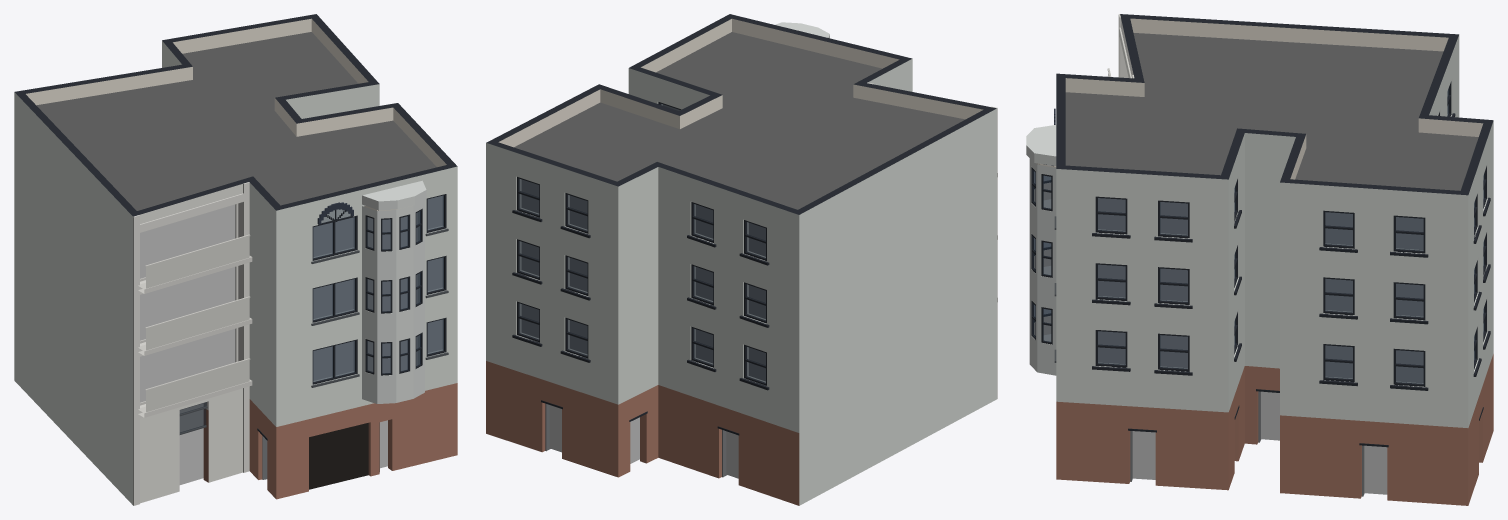
Rendered from exterior.glb.
3 views of the same model, side by side, from view 1: azimuth 30°, elevation 25°; view 2: azimuth 150°, elevation 25°; view 3: azimuth 270°, elevation 25° (orthographic). The views are drawn at different scales.
Visible parts, largest first — view 1: shell, roof, shadow-proxy, storefront, bay-windows, glazing, relief-1, bay-glazing, frames, trim, arch-heads-3; view 2: shell, roof, shadow-proxy, glazing, frames, trim, storefront; view 3: shell, roof, shadow-proxy, glazing, frames, bay-windows, trim, bay-glazing, storefront.
Part boxes in pixels (x1=…): shell: x1=14, y1=14, x2=457, y2=504; roof: x1=36, y1=32, x2=436, y2=210; shadow-proxy: x1=140, y1=196, x2=442, y2=484; storefront: x1=138, y1=203, x2=379, y2=489; bay-windows: x1=362, y1=180, x2=426, y2=403; glazing: x1=179, y1=195, x2=443, y2=432; relief-1: x1=133, y1=182, x2=249, y2=505; bay-glazing: x1=365, y1=208, x2=422, y2=375; frames: x1=312, y1=194, x2=446, y2=384; trim: x1=311, y1=228, x2=448, y2=387; arch-heads-3: x1=317, y1=202, x2=353, y2=225; shell: x1=486, y1=14, x2=996, y2=505; roof: x1=514, y1=32, x2=965, y2=209; shadow-proxy: x1=522, y1=104, x2=765, y2=478; glazing: x1=519, y1=104, x2=765, y2=382; frames: x1=517, y1=102, x2=766, y2=385; trim: x1=512, y1=210, x2=769, y2=390; storefront: x1=541, y1=173, x2=997, y2=477; shell: x1=1056, y1=14, x2=1493, y2=505; roof: x1=1065, y1=33, x2=1478, y2=190; shadow-proxy: x1=1098, y1=198, x2=1423, y2=494; glazing: x1=1098, y1=88, x2=1484, y2=383; frames: x1=1095, y1=81, x2=1486, y2=386; bay-windows: x1=1026, y1=125, x2=1056, y2=375; trim: x1=1054, y1=113, x2=1490, y2=390; bay-glazing: x1=1031, y1=164, x2=1053, y2=344; storefront: x1=1107, y1=68, x2=1483, y2=496.
Size of the model in its own units: 16 by 12.78 by 17.42.
